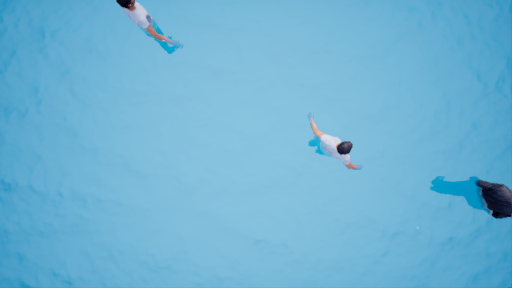person: (419, 165, 512, 224), (293, 108, 364, 180), (107, 1, 191, 55)
